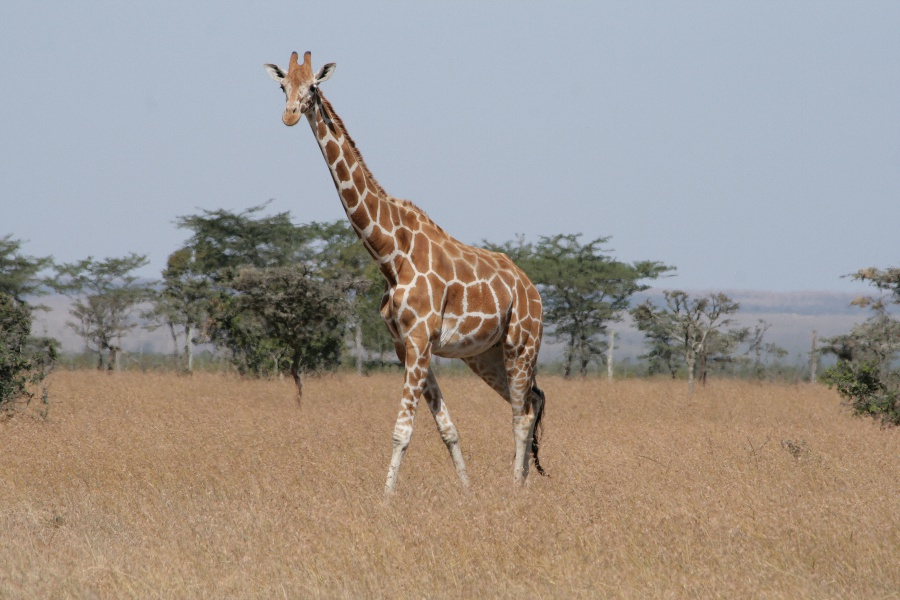giraffe: (259, 40, 568, 496)
